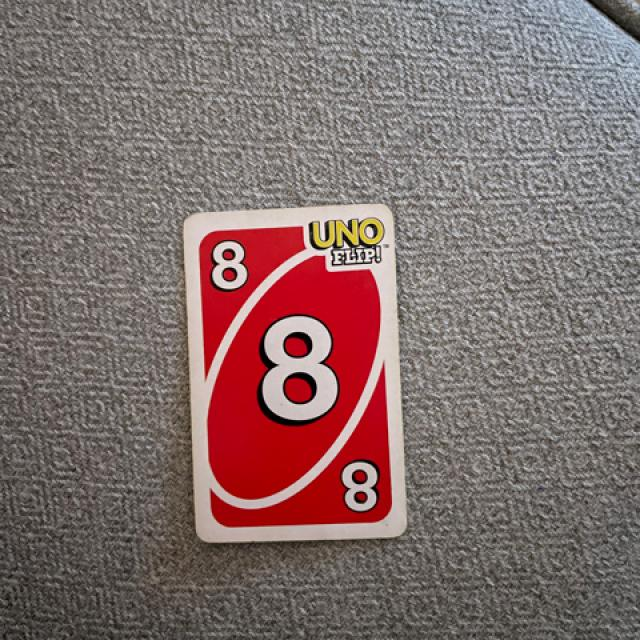lred-8: (196, 227, 268, 302)
